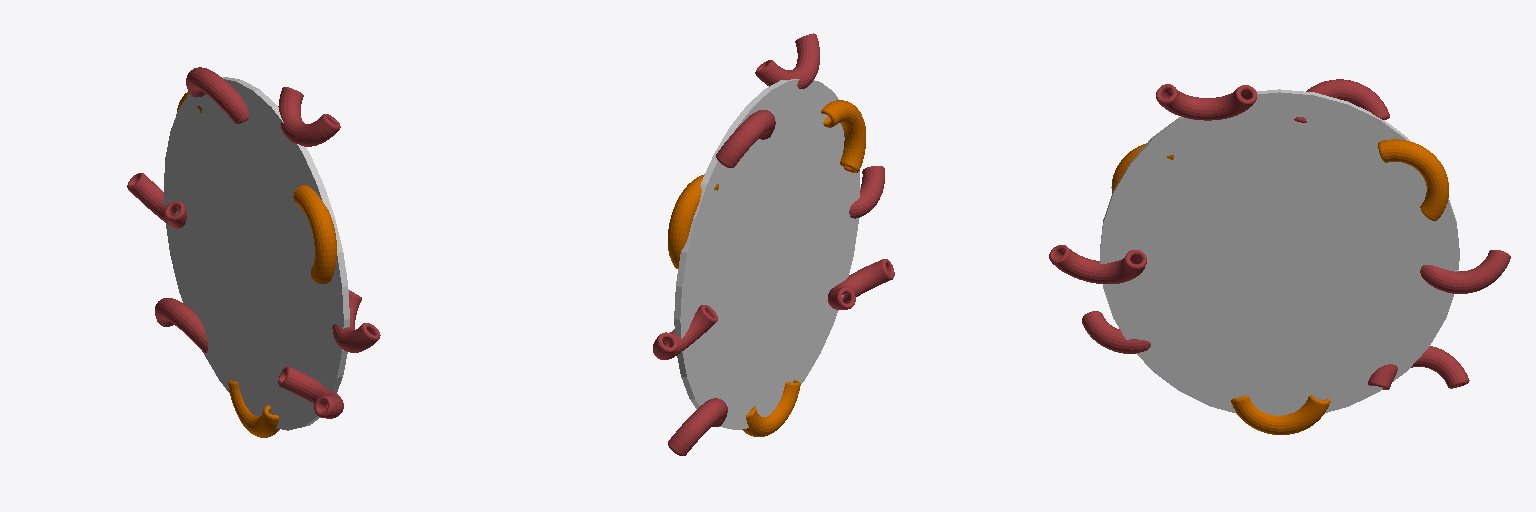
Rendered from noodlesgroup4obj.obj.
The picture shows the model from 3 angles: view 1: azimuth 30°, elevation 25°; view 2: azimuth 150°, elevation 25°; view 3: azimuth 270°, elevation 25°; orthographic projection.
Visible parts, largest first — view 1: Cylinder, ng2_pPipe1.005, ng3_pPipe1.009, ng1_pPipe1; view 2: Cylinder, ng1_pPipe1, ng2_pPipe1.005, ng3_pPipe1.009; view 3: Cylinder, ng2_pPipe1.005, ng3_pPipe1.009, ng1_pPipe1.
Boxes of the visible parts, x1=… form: Cylinder: x1=164, y1=77, x2=349, y2=430; ng2_pPipe1.005: x1=127, y1=87, x2=343, y2=418; ng3_pPipe1.009: x1=155, y1=67, x2=380, y2=352; ng1_pPipe1: x1=176, y1=92, x2=336, y2=437; Cylinder: x1=674, y1=79, x2=860, y2=429; ng1_pPipe1: x1=668, y1=100, x2=865, y2=436; ng2_pPipe1.005: x1=653, y1=33, x2=894, y2=359; ng3_pPipe1.009: x1=668, y1=110, x2=884, y2=455; Cylinder: x1=1100, y1=89, x2=1459, y2=415; ng2_pPipe1.005: x1=1082, y1=84, x2=1510, y2=353; ng3_pPipe1.009: x1=1049, y1=79, x2=1469, y2=389; ng1_pPipe1: x1=1111, y1=139, x2=1448, y2=434.
Size of the model in its own units: 3.27 by 17.29 by 20.33.